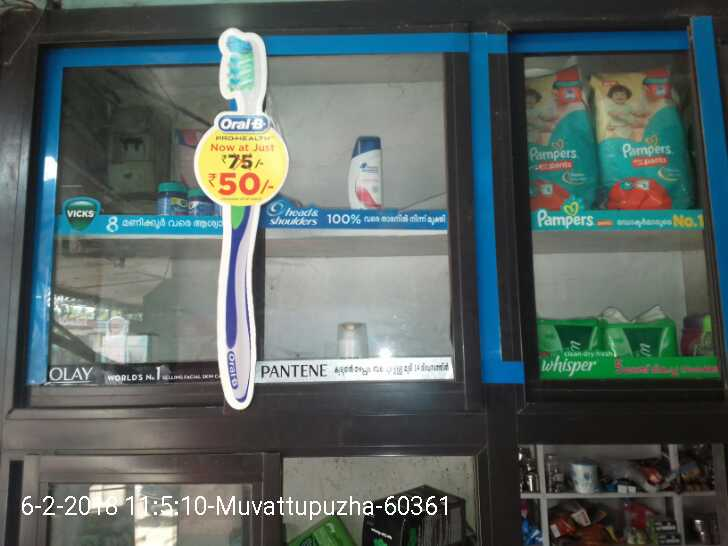vicks: (147, 181, 215, 222)
